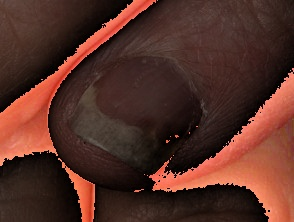Nail_psoriasis: (56, 37, 215, 192)
